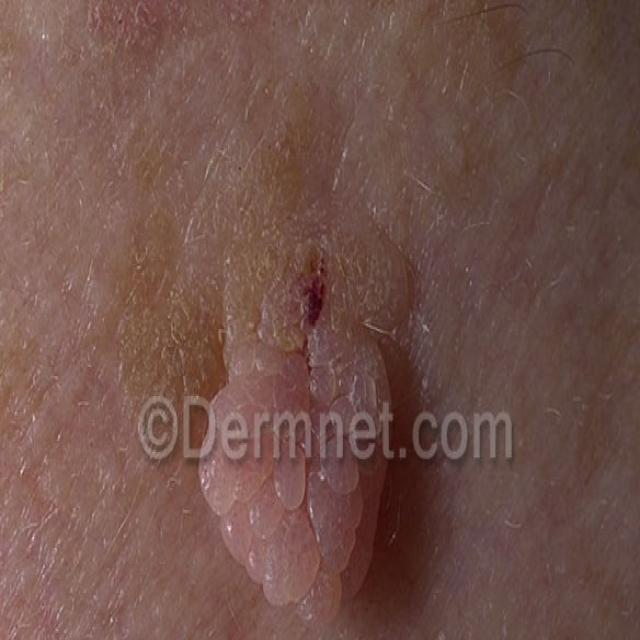Warts: (180, 177, 442, 640)
